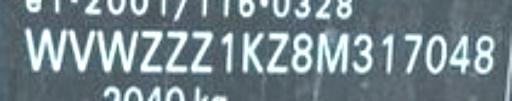letter: (21, 26, 67, 73), (94, 27, 138, 76), (315, 31, 351, 76), (188, 29, 218, 76), (138, 26, 164, 79), (446, 31, 476, 76), (66, 26, 94, 73), (165, 27, 191, 76), (240, 29, 266, 76), (264, 29, 290, 76), (424, 30, 450, 77), (399, 31, 425, 78), (289, 31, 315, 76), (471, 31, 497, 76), (351, 31, 375, 76), (218, 29, 238, 78), (378, 31, 398, 76)
